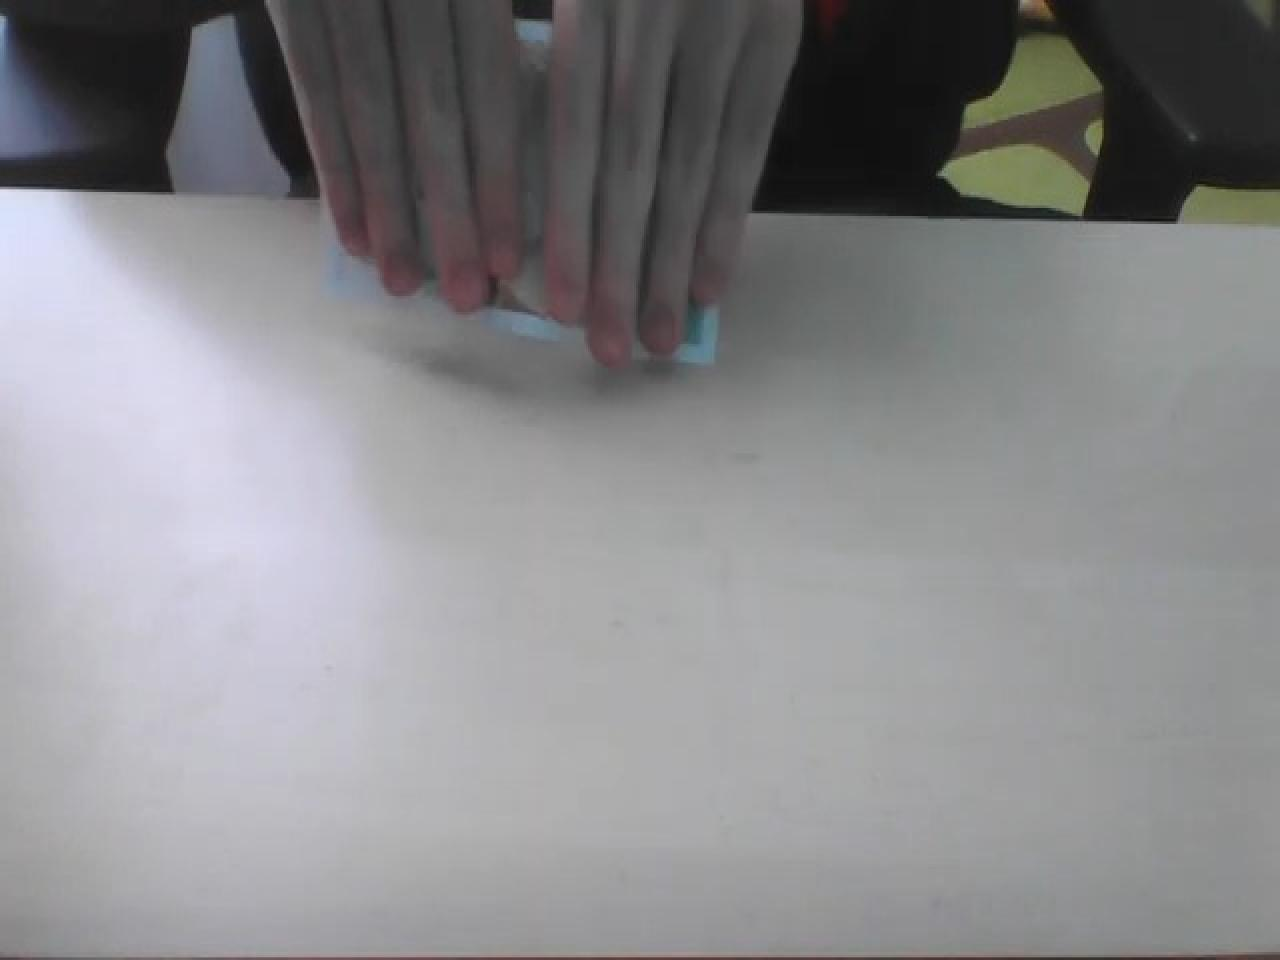100leva: (2, 178, 1276, 952), (482, 258, 720, 370)
